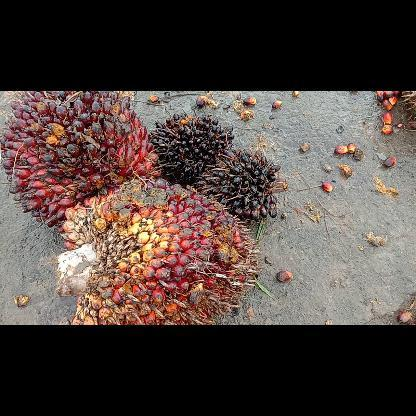TBS abnormal: (147, 109, 237, 185), (193, 144, 280, 222)
TBS masak: (55, 176, 262, 324), (0, 91, 164, 233)
